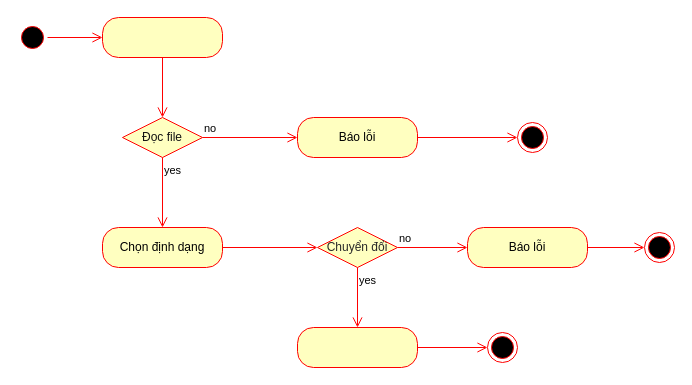
Some shapes in this 692 by 385 pixel diagram are drawn without their labels. Here are the shapes that lost their labels. From the top down, the centre of each, then its label:
At [162,37]: "Upload file mp3".
At [357,347]: "Cho tải về file đã chuyển đổi".
